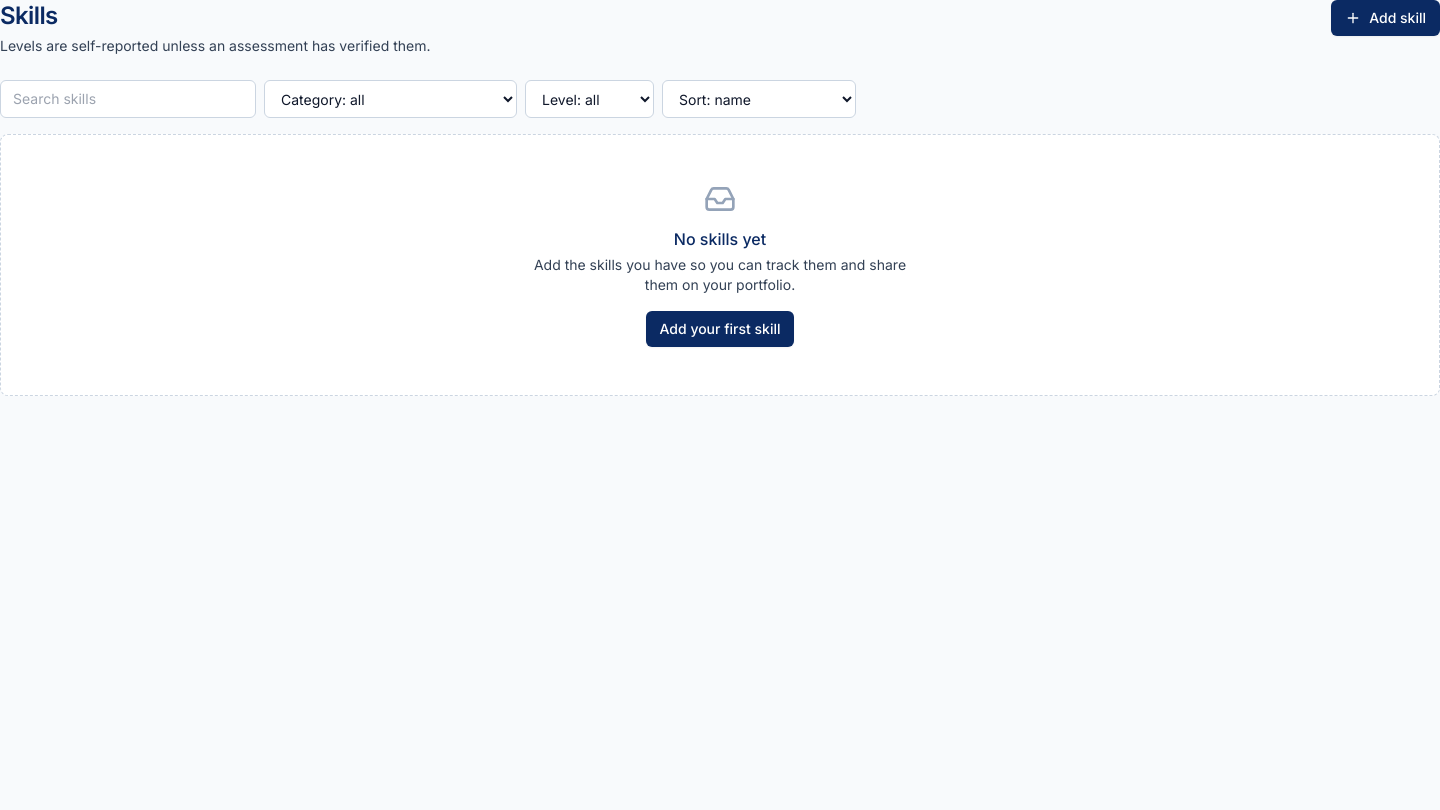
Test: skills › validates, creates a skill, and refreshes the list from the server
Click the button "Add your first skill". click: (720, 329)
box: x1=646 y1=311 x2=794 y2=347
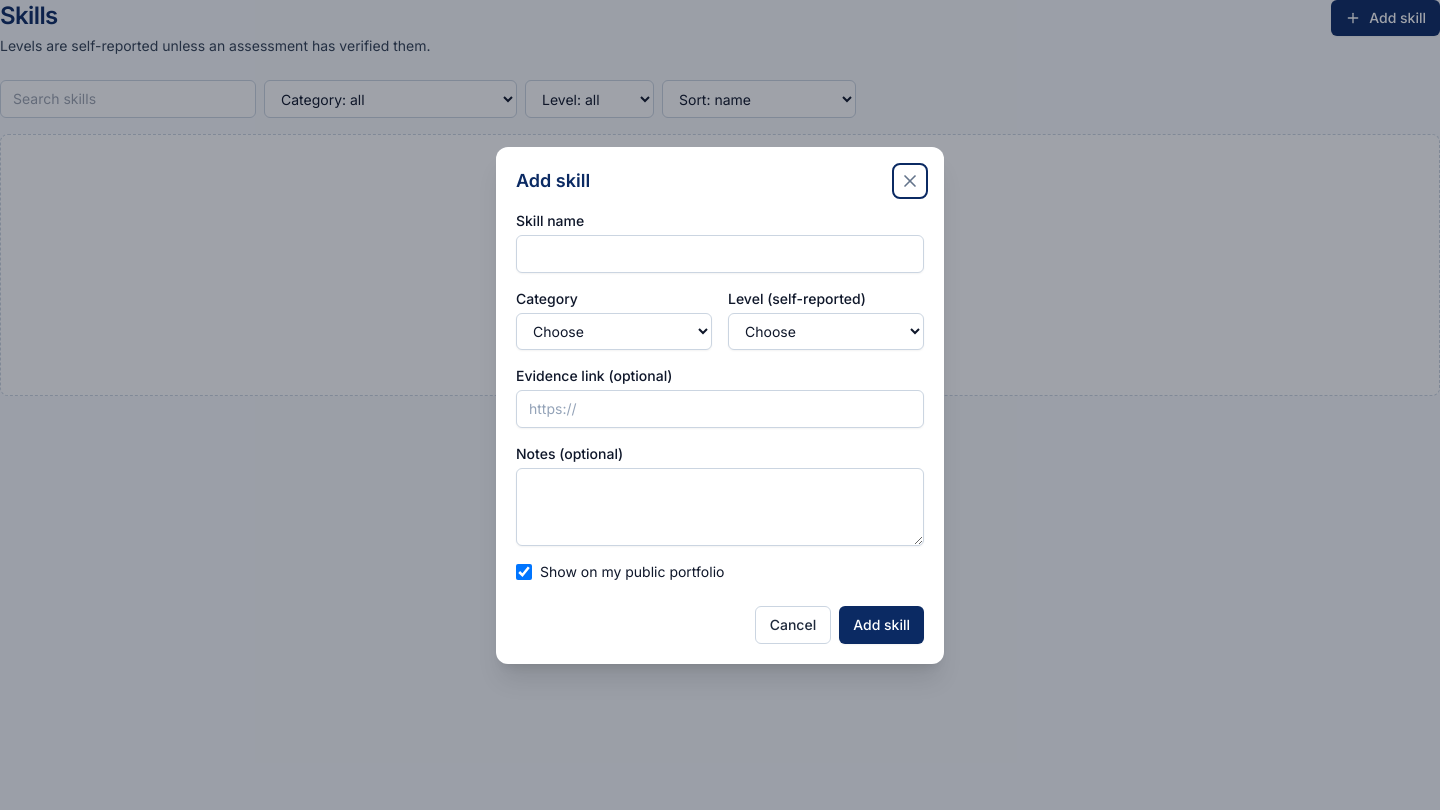
Click the button "Add skill". click: (882, 624)
box: x1=839 y1=606 x2=924 y2=644
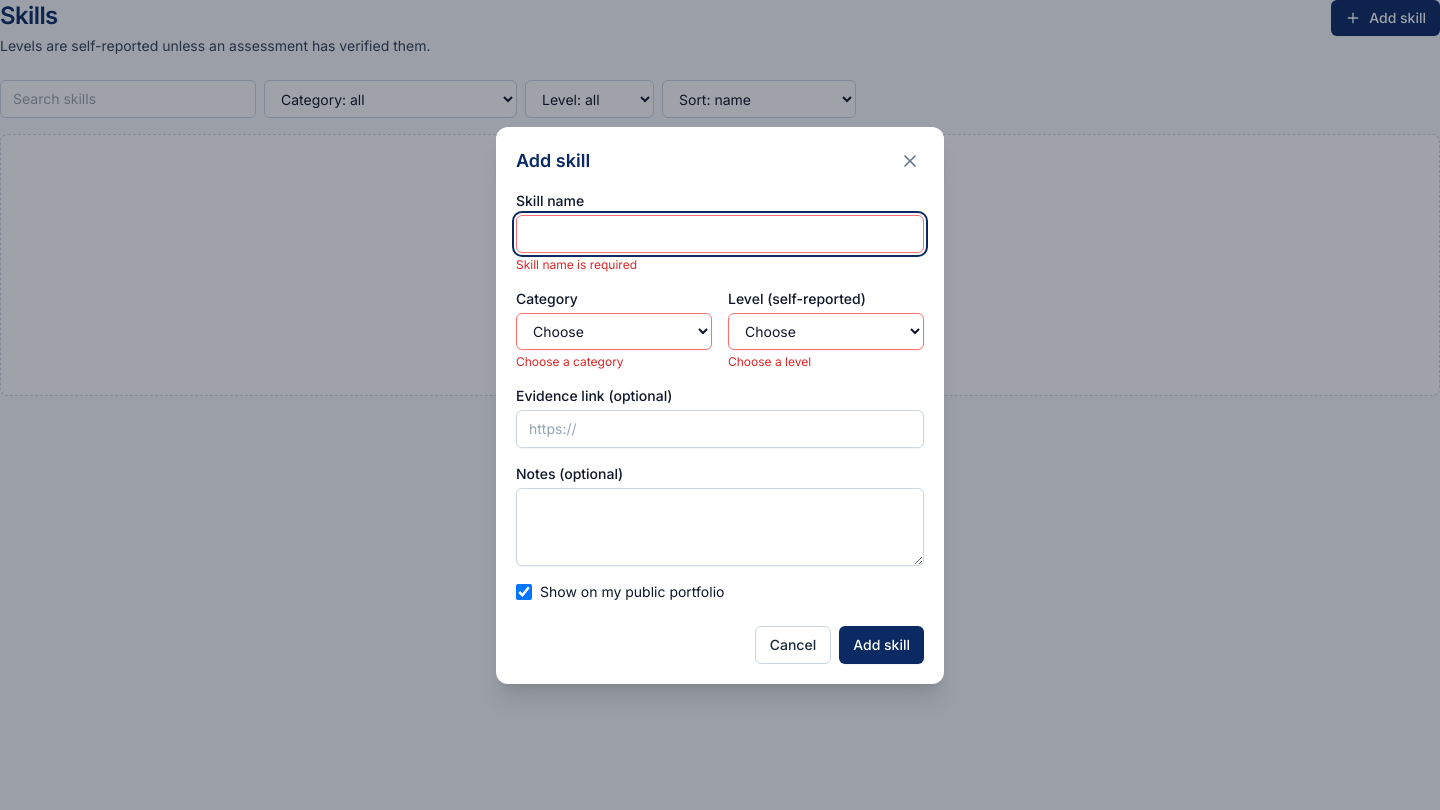
Expected: the text "Skill name is required" is shown, x1=516 y1=256 x2=637 y2=272
Type "Rust" into the field labelled "Skill name". click: (720, 234)
box: x1=516 y1=214 x2=924 y2=252
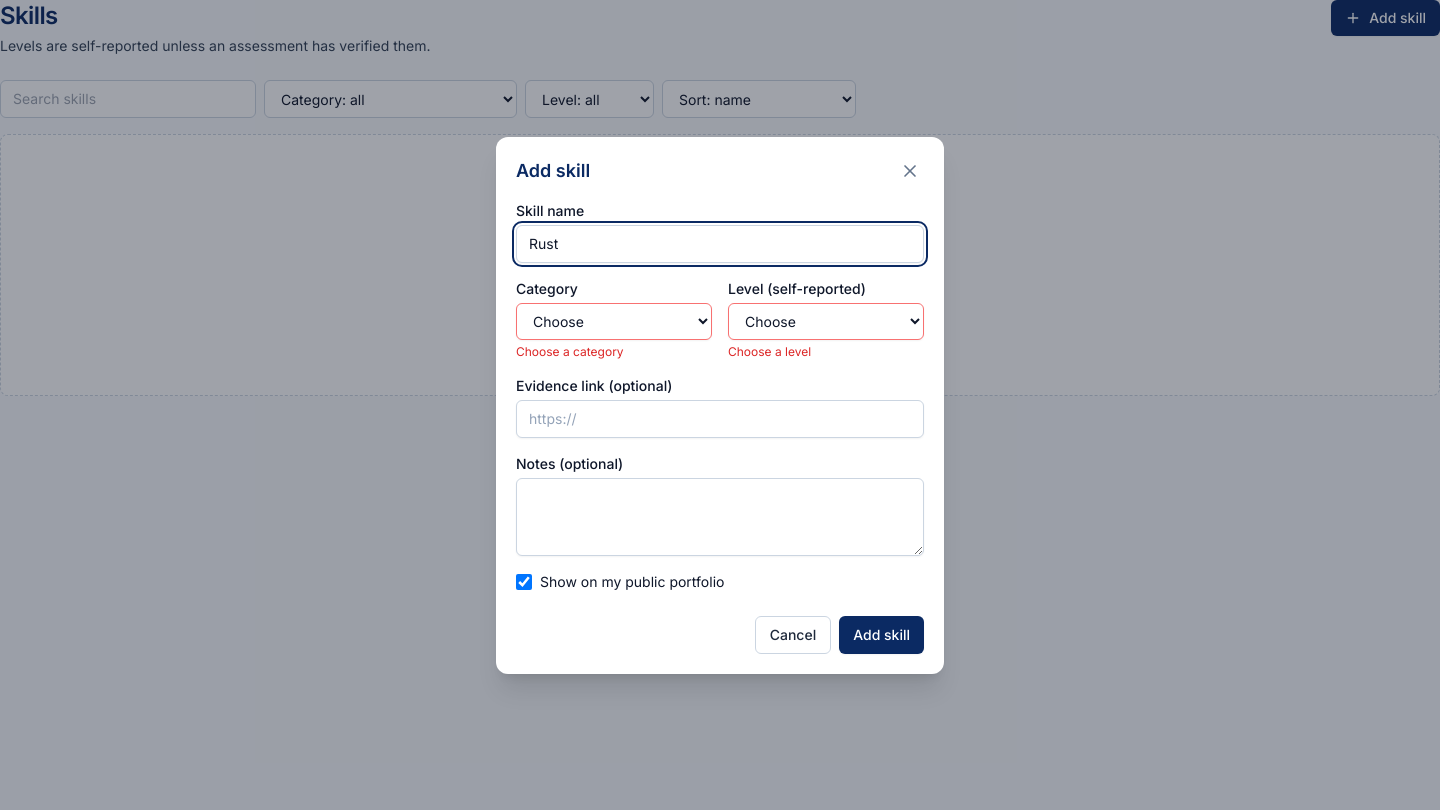
Select "Programming" in the dropdown labelled "Category". click: (614, 321)
box: x1=516 y1=302 x2=712 y2=340
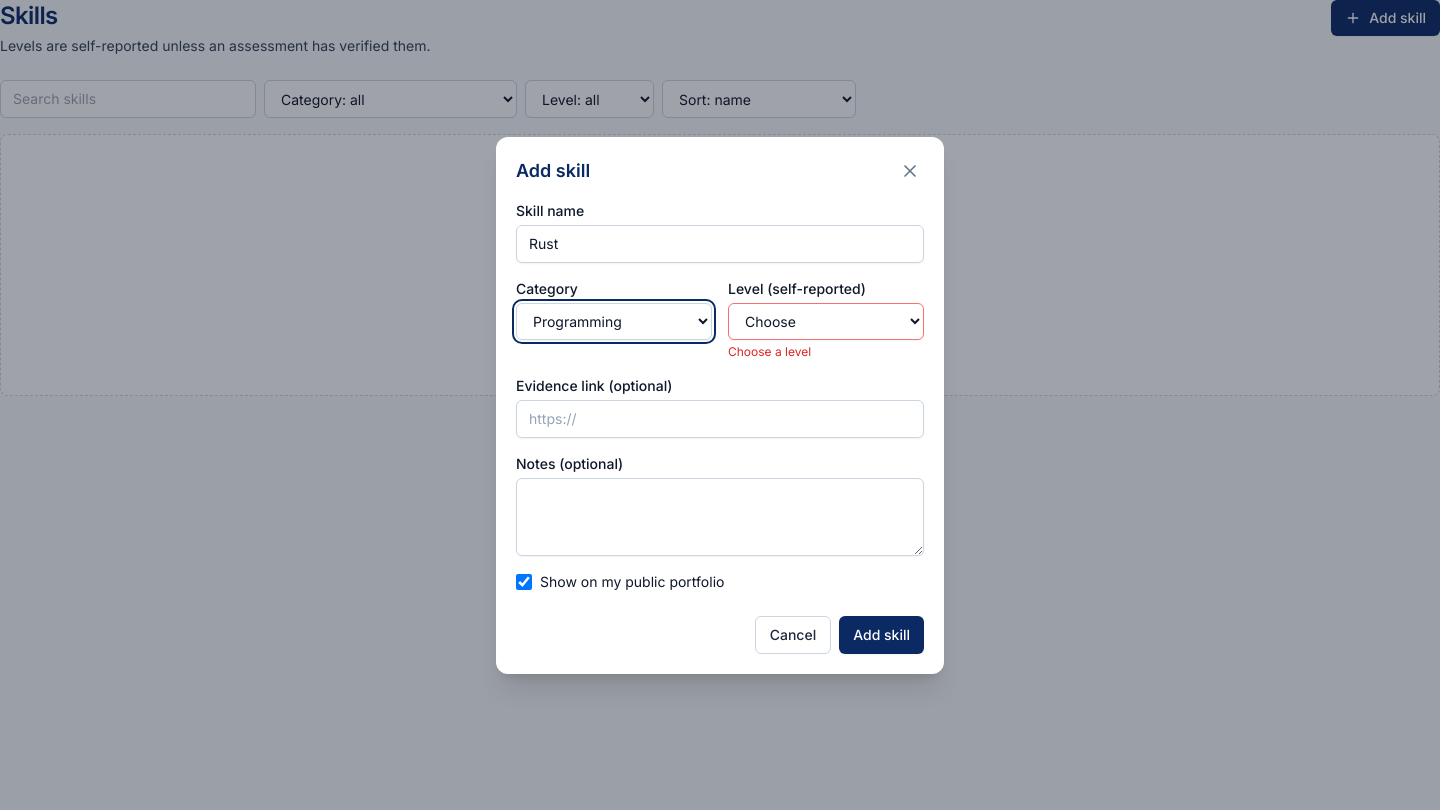
Select "Advanced" in the dropdown labelled "Level (self-reported)". click: (826, 321)
box: x1=728 y1=302 x2=924 y2=340
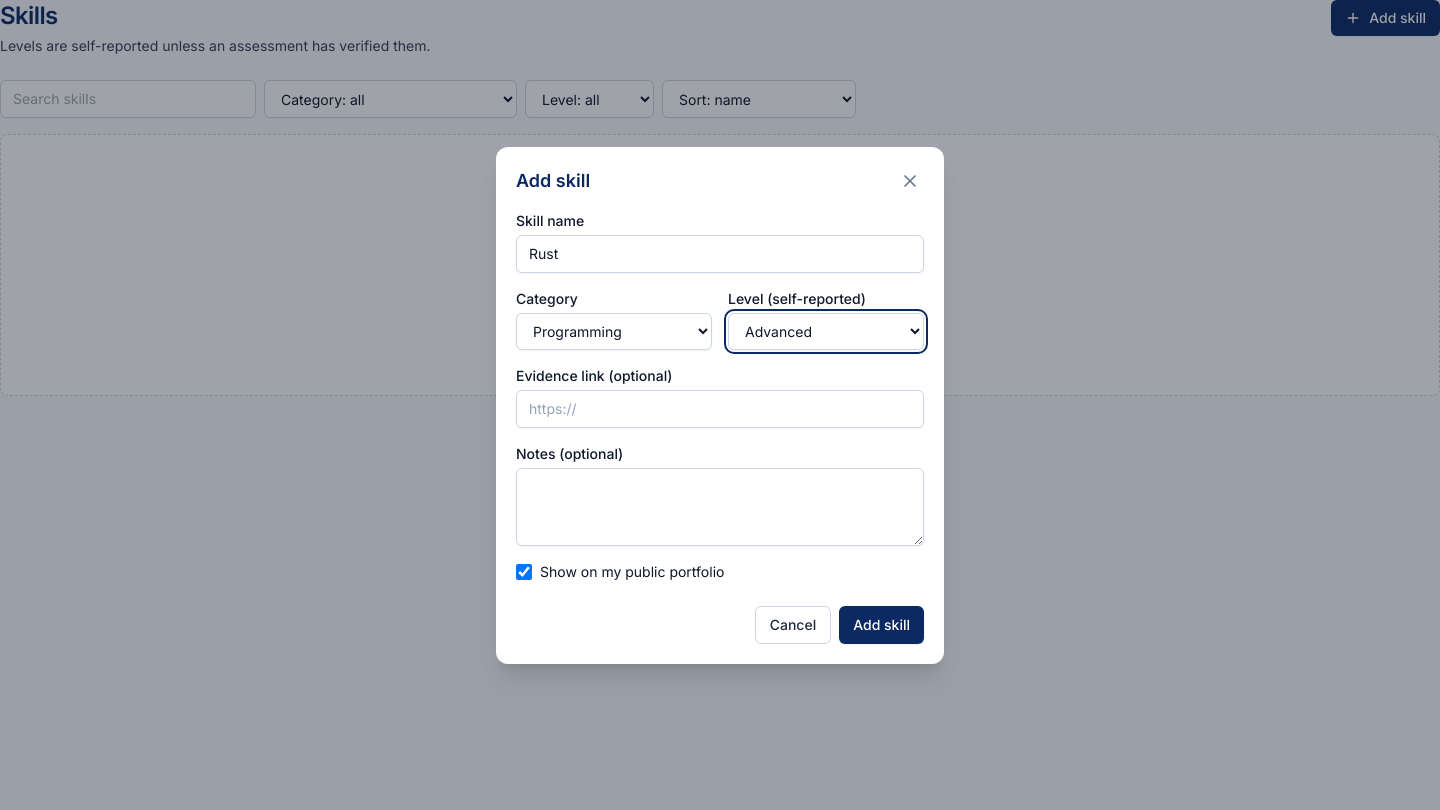
Click the button "Add skill". click: (882, 624)
box: x1=839 y1=606 x2=924 y2=644
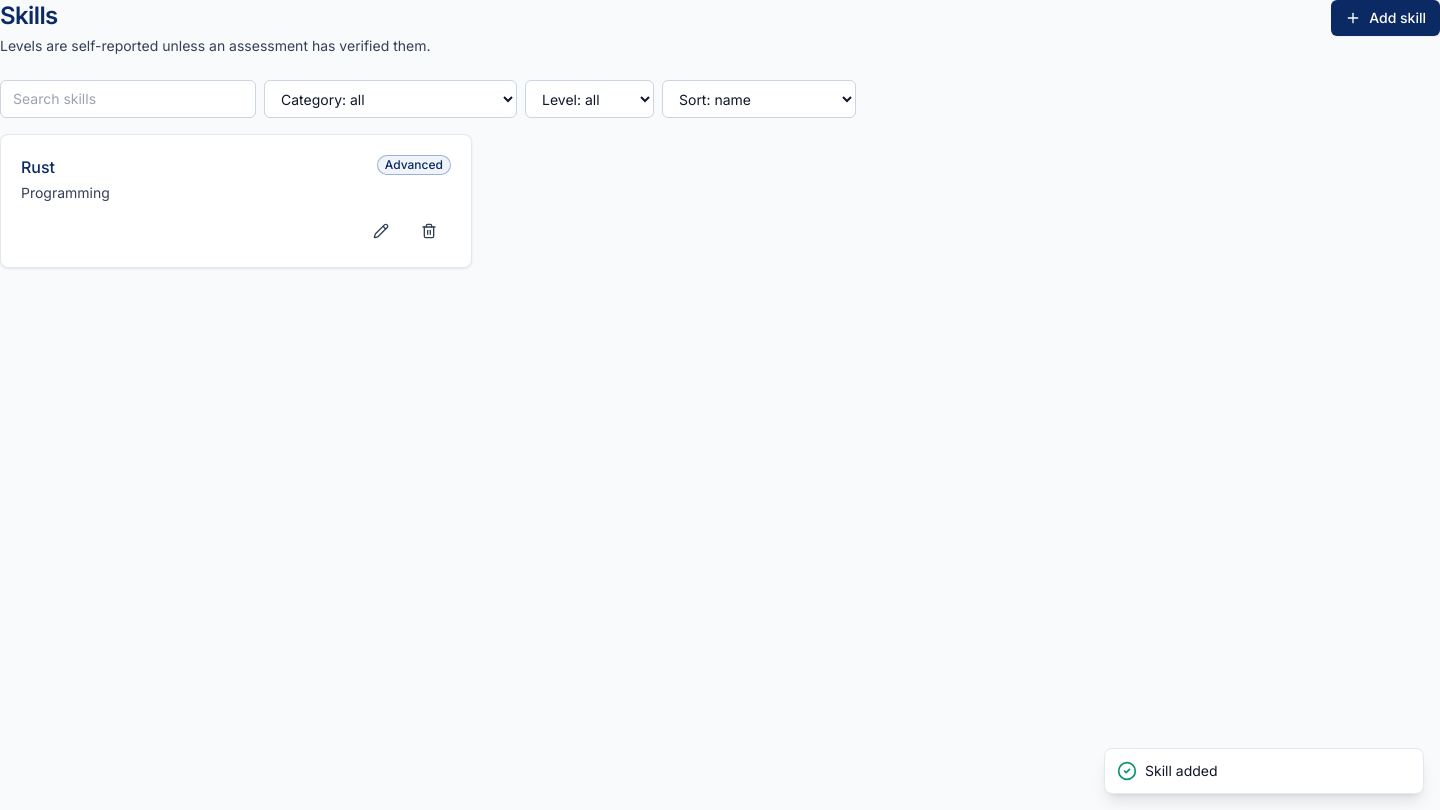
Expected: the heading "Rust" is shown, x1=21 y1=155 x2=55 y2=179
Expected: the dialog is gone
